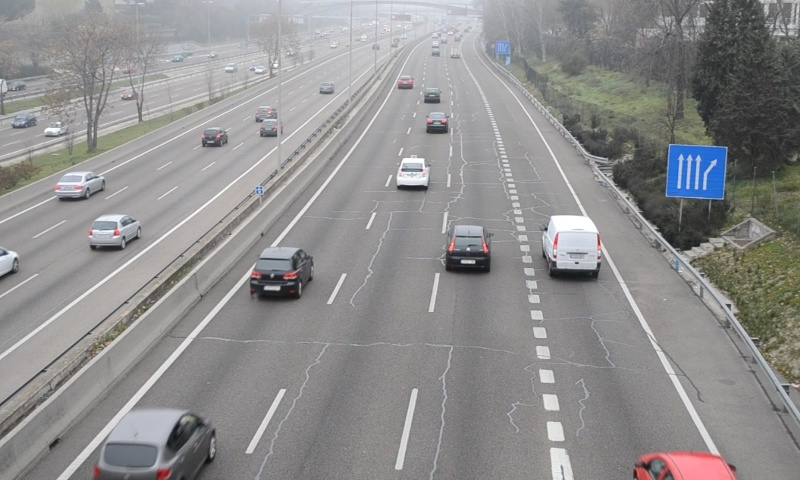car: (93, 410, 213, 480), (248, 249, 313, 297), (446, 224, 492, 270), (396, 156, 427, 188), (425, 112, 449, 135), (423, 86, 441, 103), (398, 74, 413, 90)
van: (543, 216, 601, 278)
